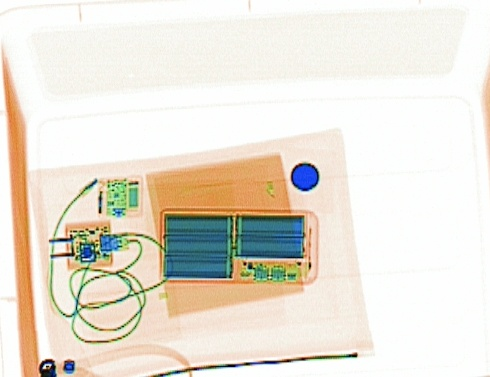powerbank: (154, 202, 318, 286)
